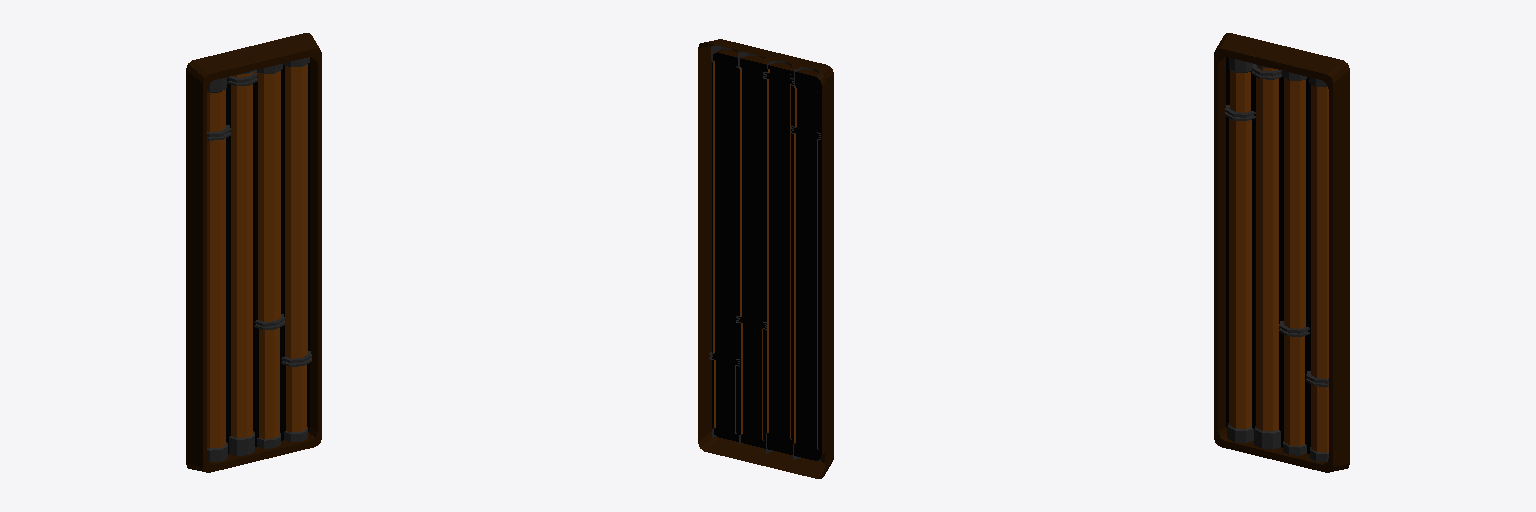
The model's file is Details_Pipes_Long.obj.
3 views of the same model, side by side, from view 1: azimuth 30°, elevation 25°; view 2: azimuth 150°, elevation 25°; view 3: azimuth 330°, elevation 25° (orthographic).
Parts seen in each view (by area): view 1: Details_Pipes_Long_Plane.061; view 2: Details_Pipes_Long_Plane.061; view 3: Details_Pipes_Long_Plane.061.
Part boxes in pixels (bbox=[...]): Details_Pipes_Long_Plane.061: bbox=[186, 33, 321, 472]; Details_Pipes_Long_Plane.061: bbox=[698, 39, 833, 478]; Details_Pipes_Long_Plane.061: bbox=[1214, 33, 1349, 472].
Size of the model in its own units: 0.5143 by 1.58 by 0.0932.